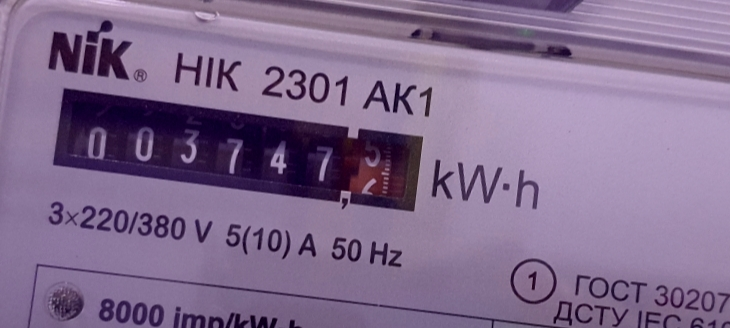0: (130, 122, 155, 162), (82, 123, 108, 160)
3: (176, 126, 199, 164)
4: (264, 135, 289, 177)
5: (359, 137, 382, 168)
6: (356, 173, 377, 196)
7: (307, 141, 334, 183), (219, 134, 243, 175)
screen: (40, 75, 438, 228)
